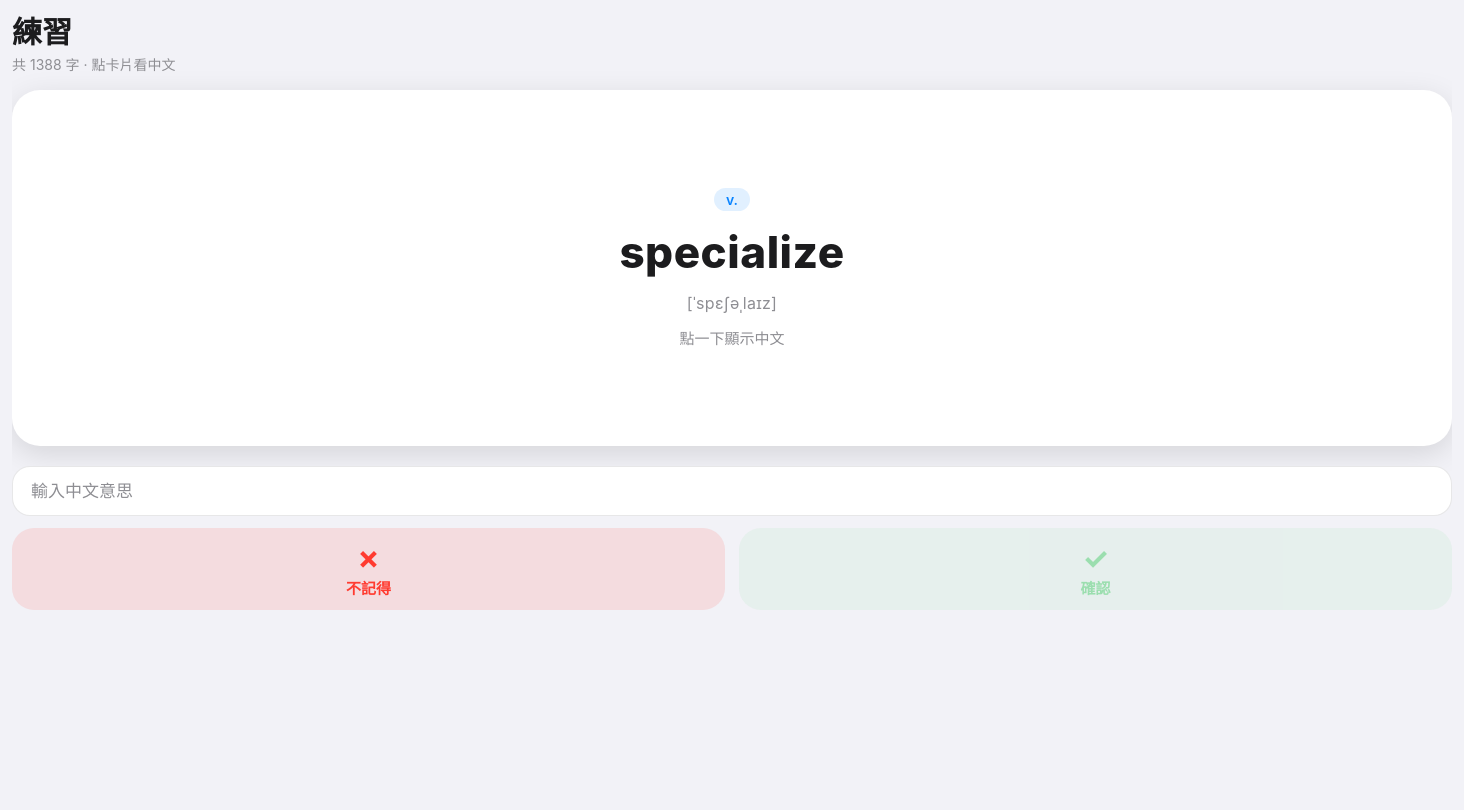
Scenario: PracticePage answer input › keeps 不記得 as an immediate skip
Click the button "✗ 不記得": [368, 569] box [12, 528, 725, 610]
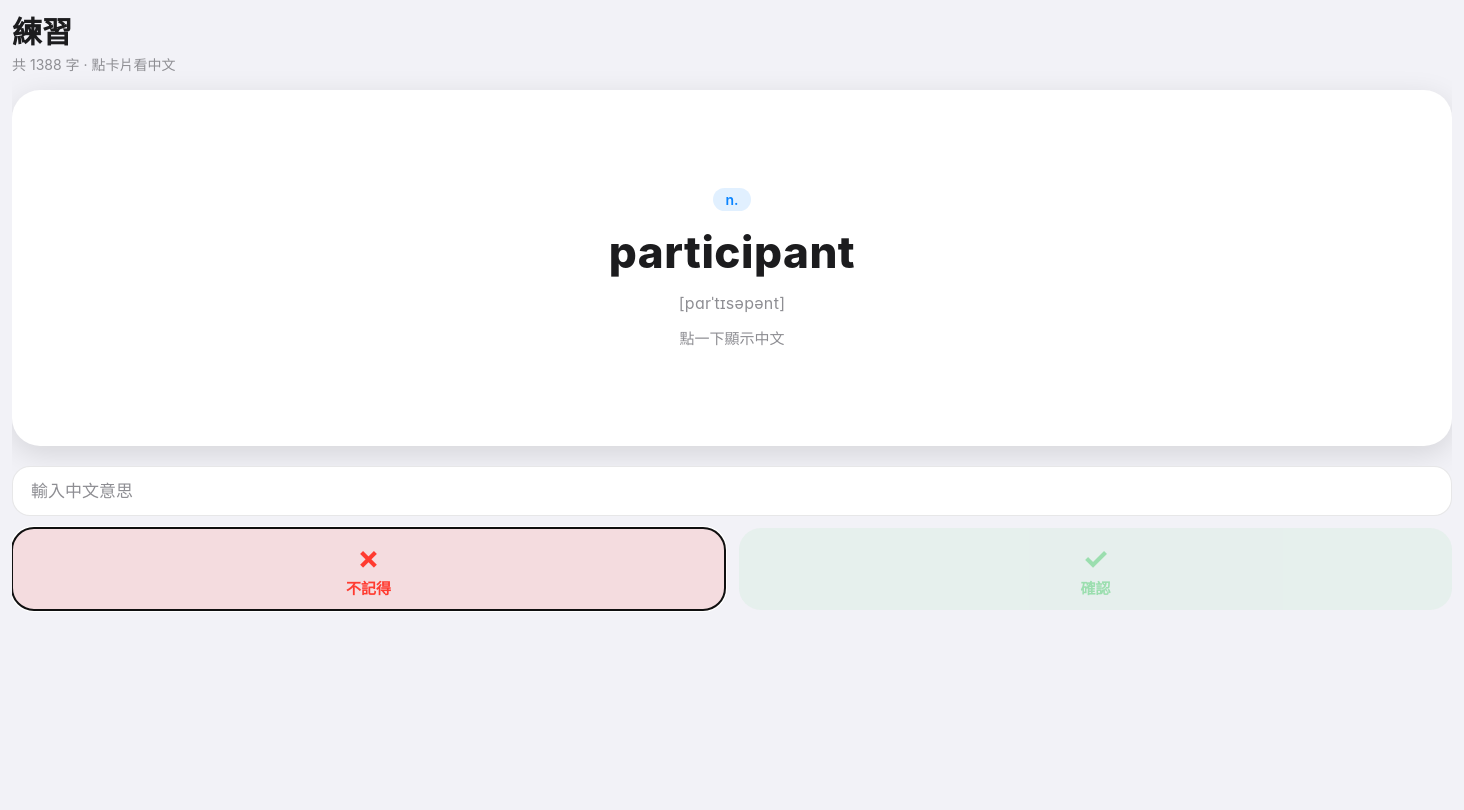
Check: the button with test id "practice-word" no longer shows "specialize"
